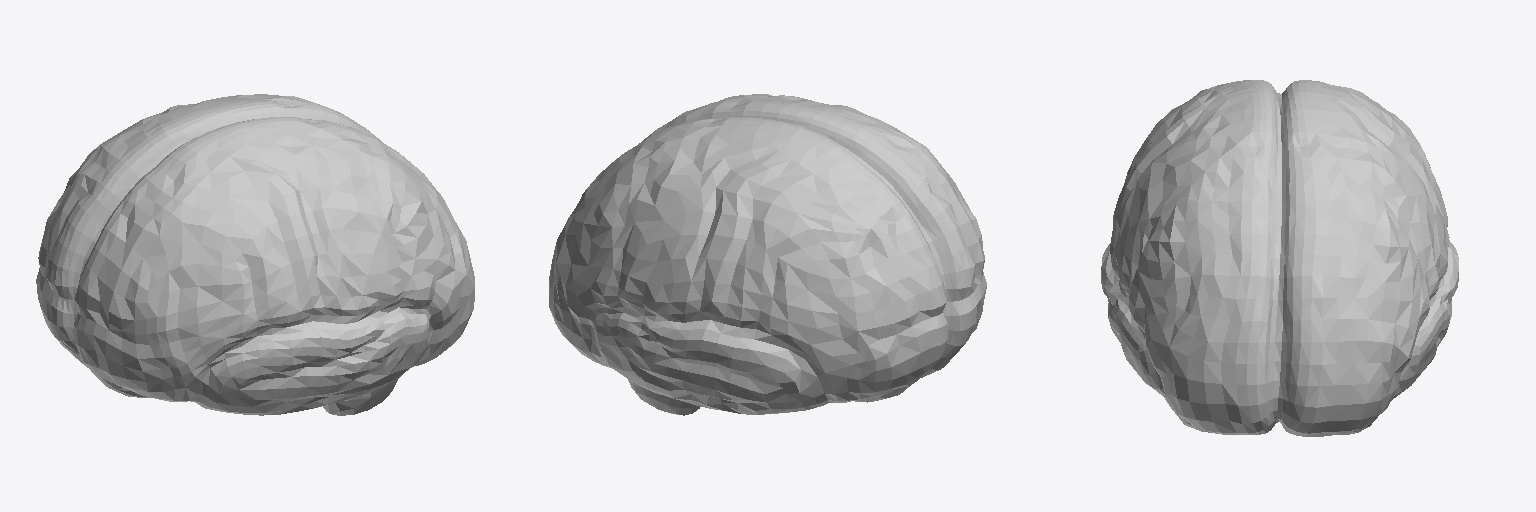
File: brain.obj
The picture shows the model from 3 angles: view 1: azimuth 30°, elevation 25°; view 2: azimuth 150°, elevation 25°; view 3: azimuth 270°, elevation 25°; orthographic projection.
Parts seen in each view (by area): view 1: mesh; view 2: mesh; view 3: mesh.
Part boxes in pixels (left/top/right/bottom): mesh: left=36, top=94, right=474, bottom=415; mesh: left=549, top=94, right=986, bottom=415; mesh: left=1101, top=80, right=1458, bottom=436.
Size of the model in its own units: 0.9982 by 0.7198 by 0.8067.